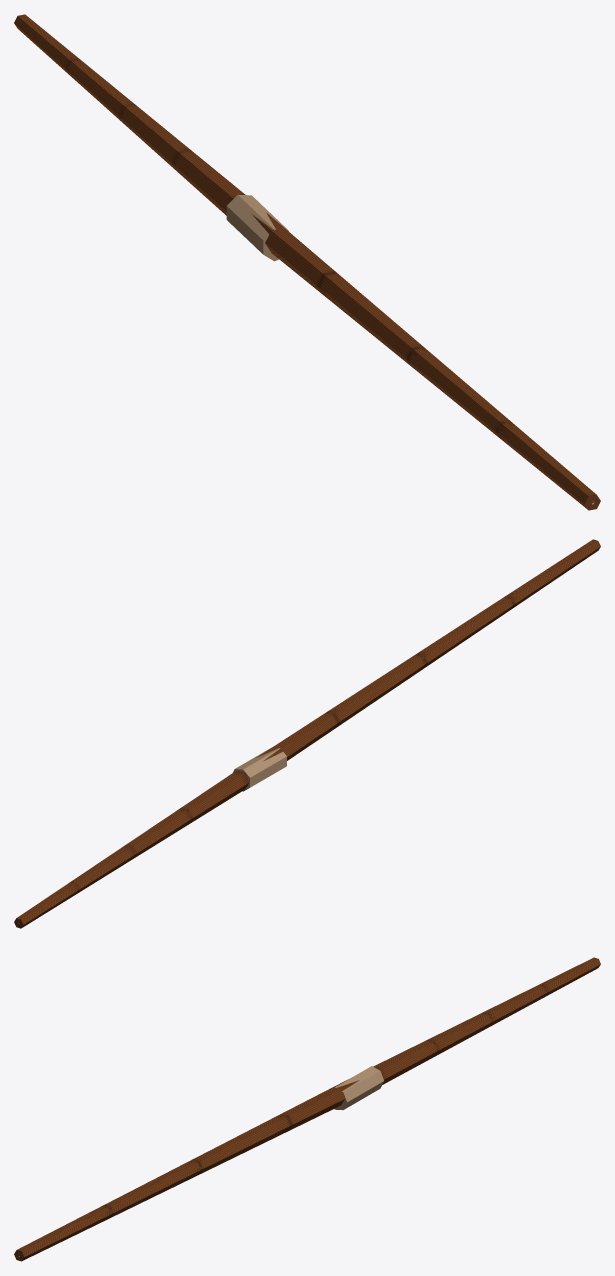
The model's file is legendary-warriors-kit-warrior-yumi-bow-d2201cc1__39214.glb.
3 renders of one model, top to bottom at view 1: azimuth 30°, elevation 25°; view 2: azimuth 150°, elevation 25°; view 3: azimuth 330°, elevation 25°, orthographic. The views are drawn at different scales.
Visible parts, largest first — view 1: warrior-yumi-bow; view 2: warrior-yumi-bow; view 3: warrior-yumi-bow.
Part boxes in pixels (bbox=[...]): warrior-yumi-bow: bbox=[14, 14, 600, 510]; warrior-yumi-bow: bbox=[14, 539, 600, 928]; warrior-yumi-bow: bbox=[14, 957, 600, 1261].
Bounding box in the file's own units: 0.2182 × 0.1098 × 1.86.
Materials: 3 (1 with a texture image).
